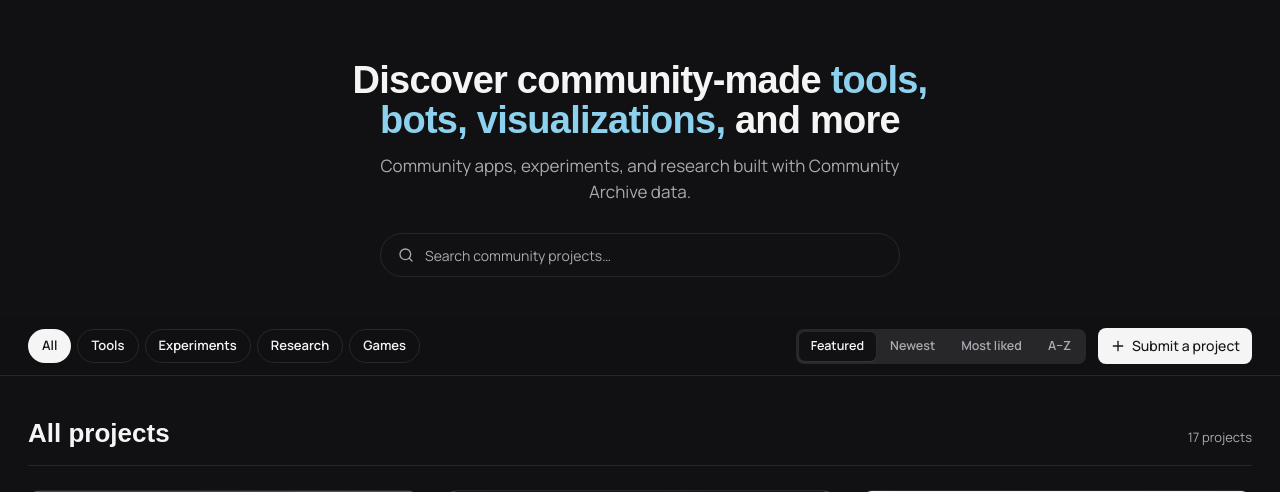
Test case: CommunityGallery › shows one continuous grid and preserves the curated Tools order when filtered
expect the heading "All projects" is shown: met, box [28,414,170,453]
Click the button "Tools". click: [108, 346]
box: [78,329,139,363]
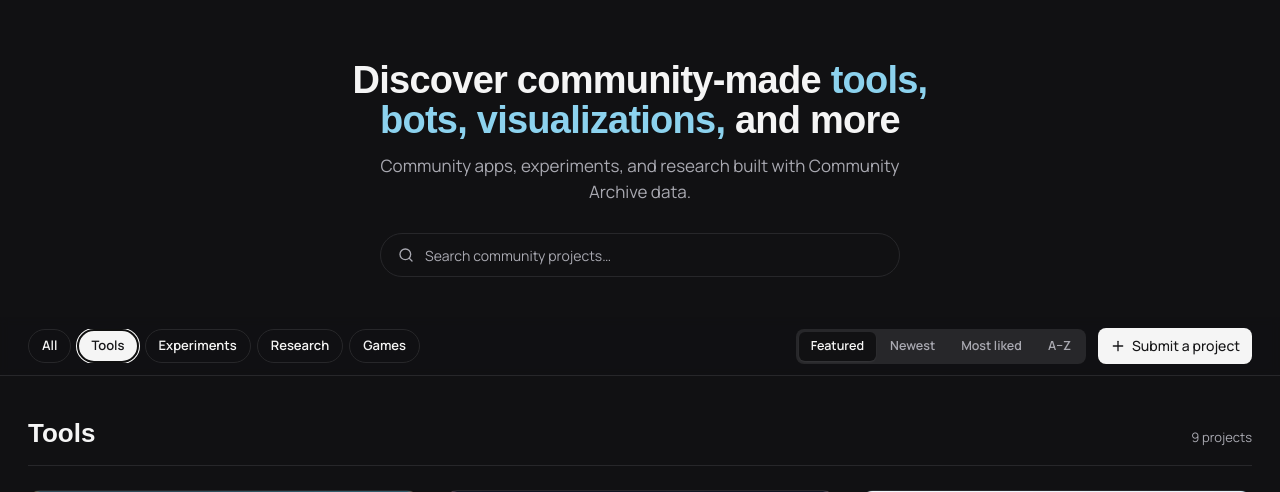
expect the text "9 projects" is shown: met, box [1191,428,1252,448]
